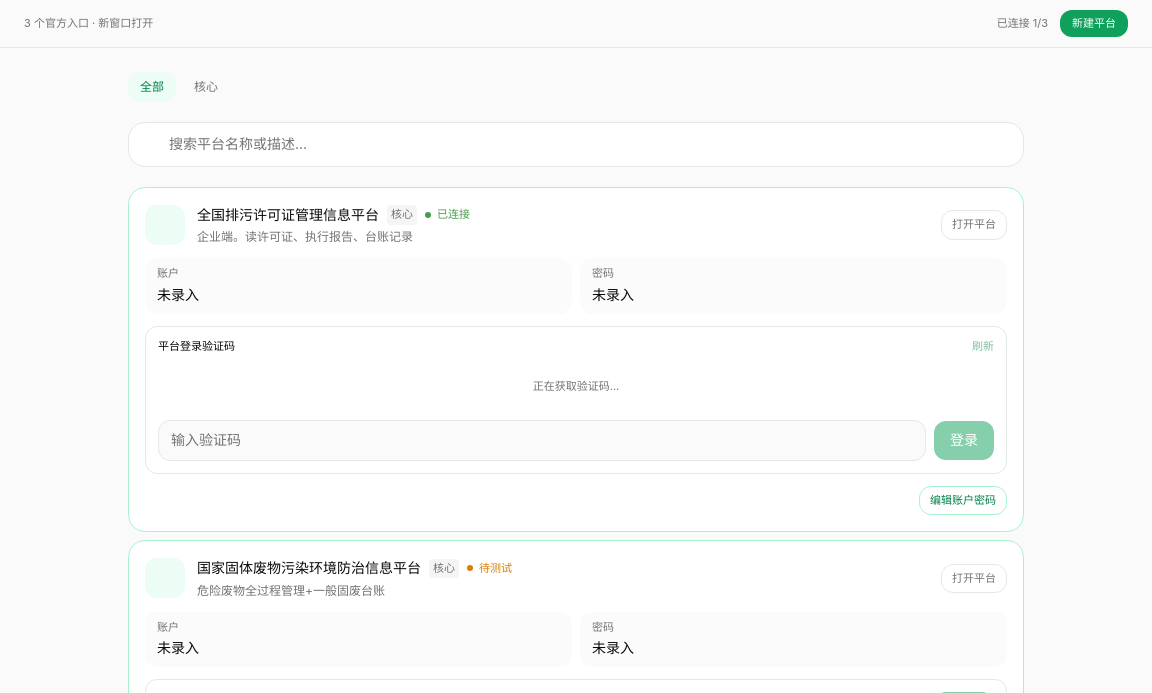
LinksView › shows empty state when search matches nothing
Type "ZZZZNOMATCH" into the field with placeholder "搜索平台名称或描述..." at (576, 145), box x1=128 y1=122 x2=1024 y2=167
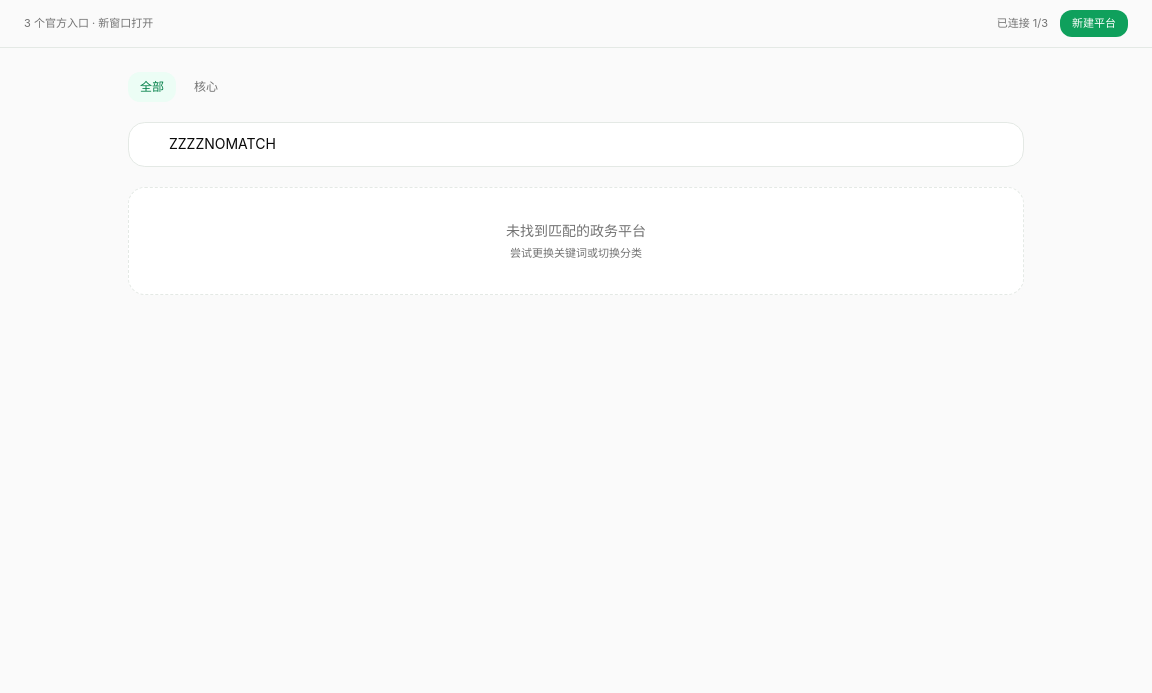
Expected: the text "未找到匹配的政务平台" is shown, x1=506 y1=222 x2=646 y2=239
Expected: the text "尝试更换关键词或切换分类" is shown, x1=510 y1=246 x2=642 y2=260
